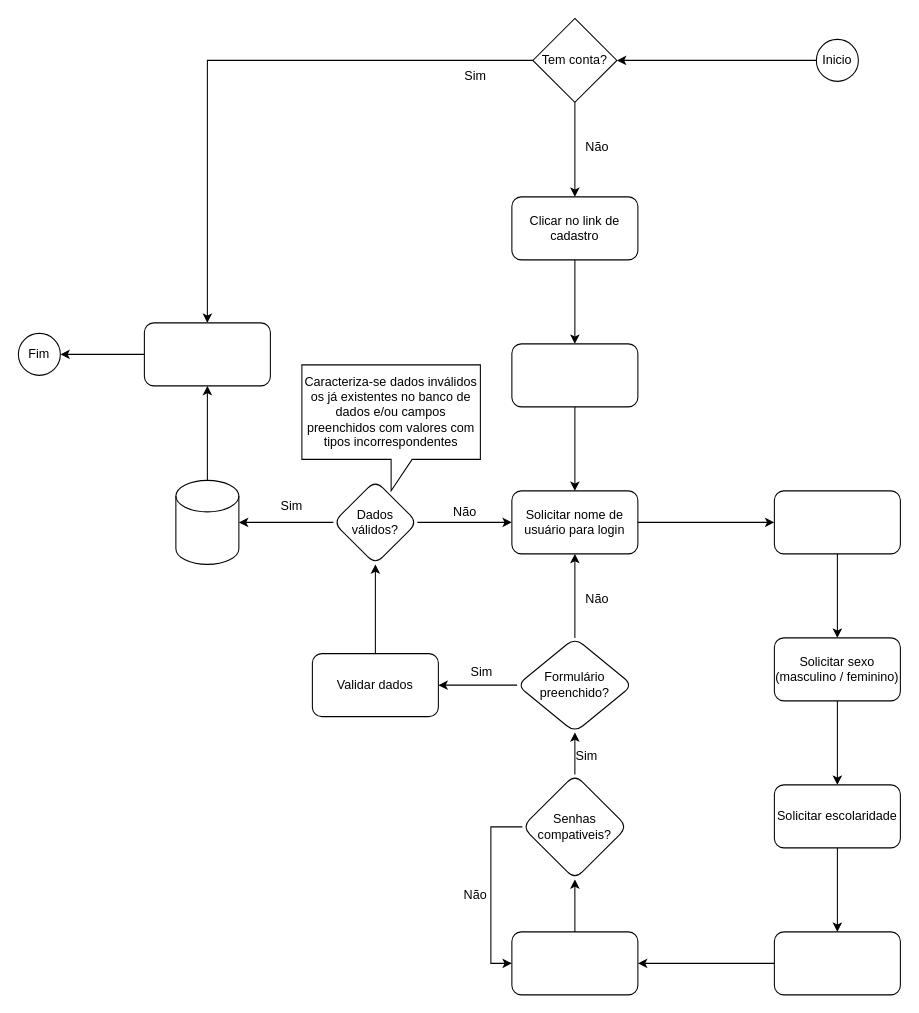
Some shapes in this 919 by 1013 pixel diagram are drawn without their labels. Each missing label, with the box of its shape:
Confirmar senha: (511, 931, 638, 995)
Direcionar usuário pra tela de cadastro: (511, 343, 638, 407)
Realizar login: (143, 322, 270, 386)
Salvar dados: (175, 479, 239, 564)
Solicitar idade em anos completos: (773, 490, 900, 554)
Solicitar senha: (773, 931, 900, 995)
